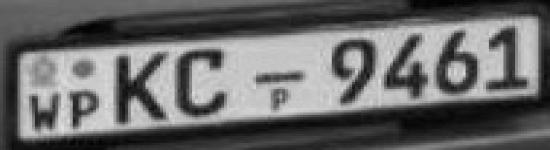-: (248, 66, 312, 88)
1: (482, 19, 533, 94)
4: (378, 30, 431, 101)
6: (430, 27, 483, 99)
9: (325, 35, 378, 107)
C: (173, 43, 231, 120)
K: (108, 46, 171, 126)
P: (67, 87, 103, 133)
W: (24, 90, 64, 135)
